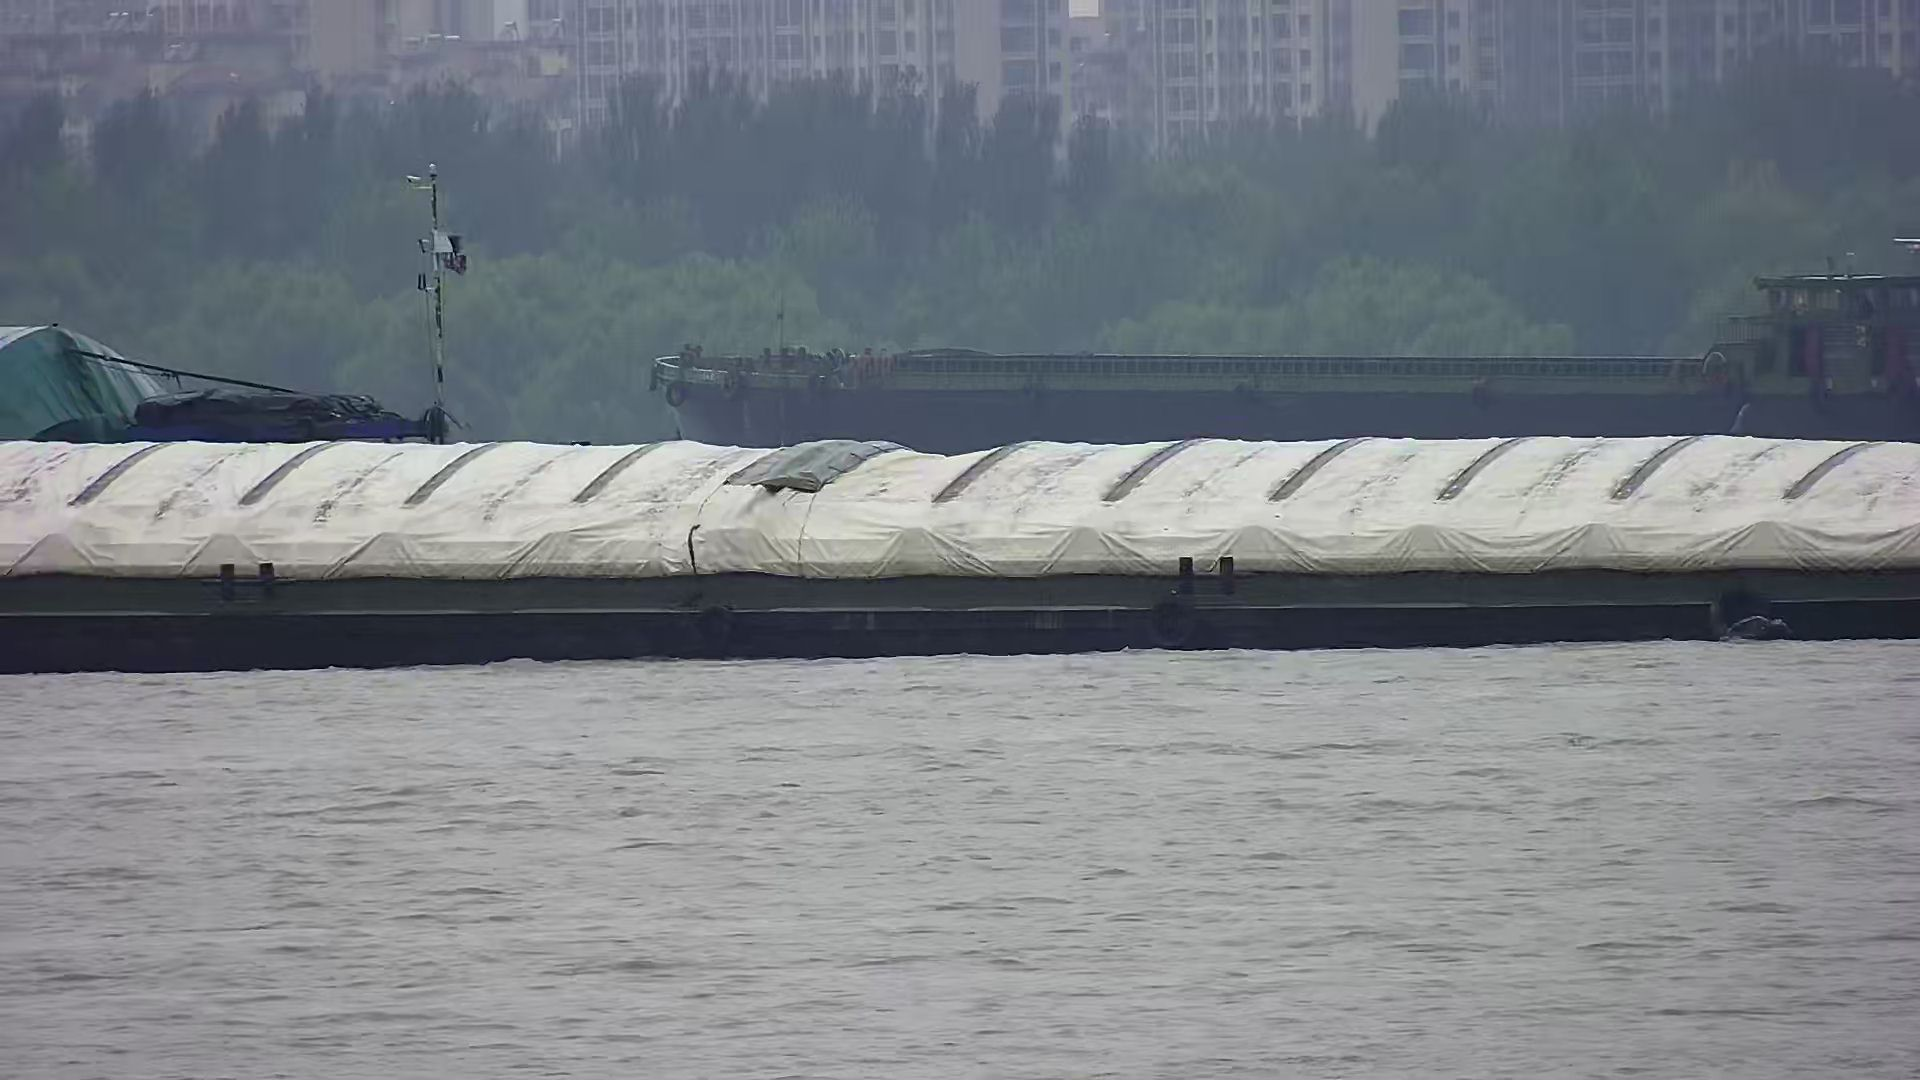ship: (1, 438, 1920, 676), (654, 268, 1915, 451), (1, 157, 465, 440)
